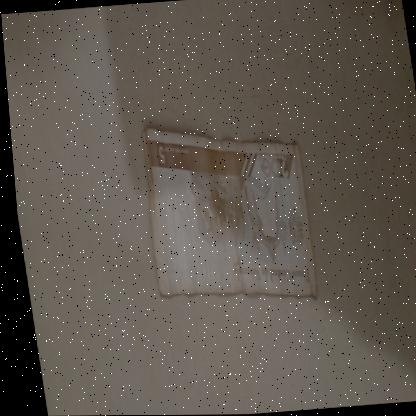five-back-vef: (130, 116, 317, 309)
